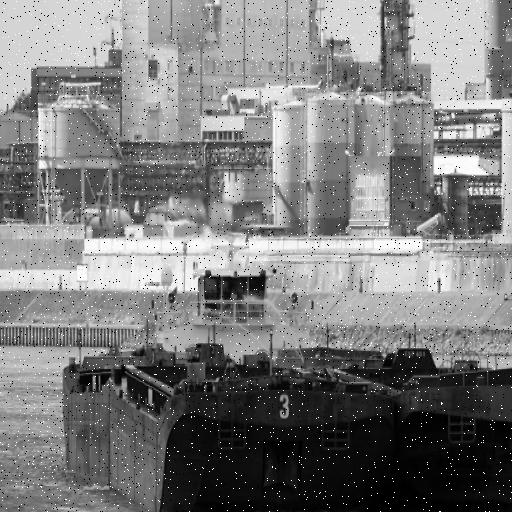tugboat: (142, 228, 320, 443)
